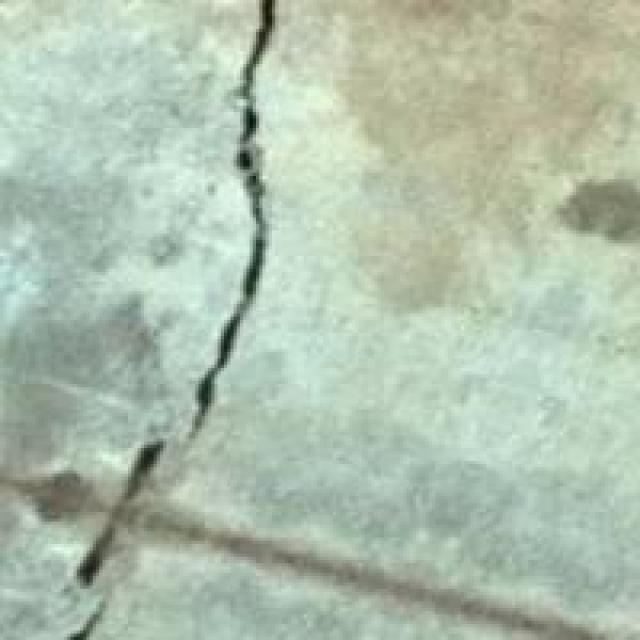Crack: (6, 0, 308, 637)
